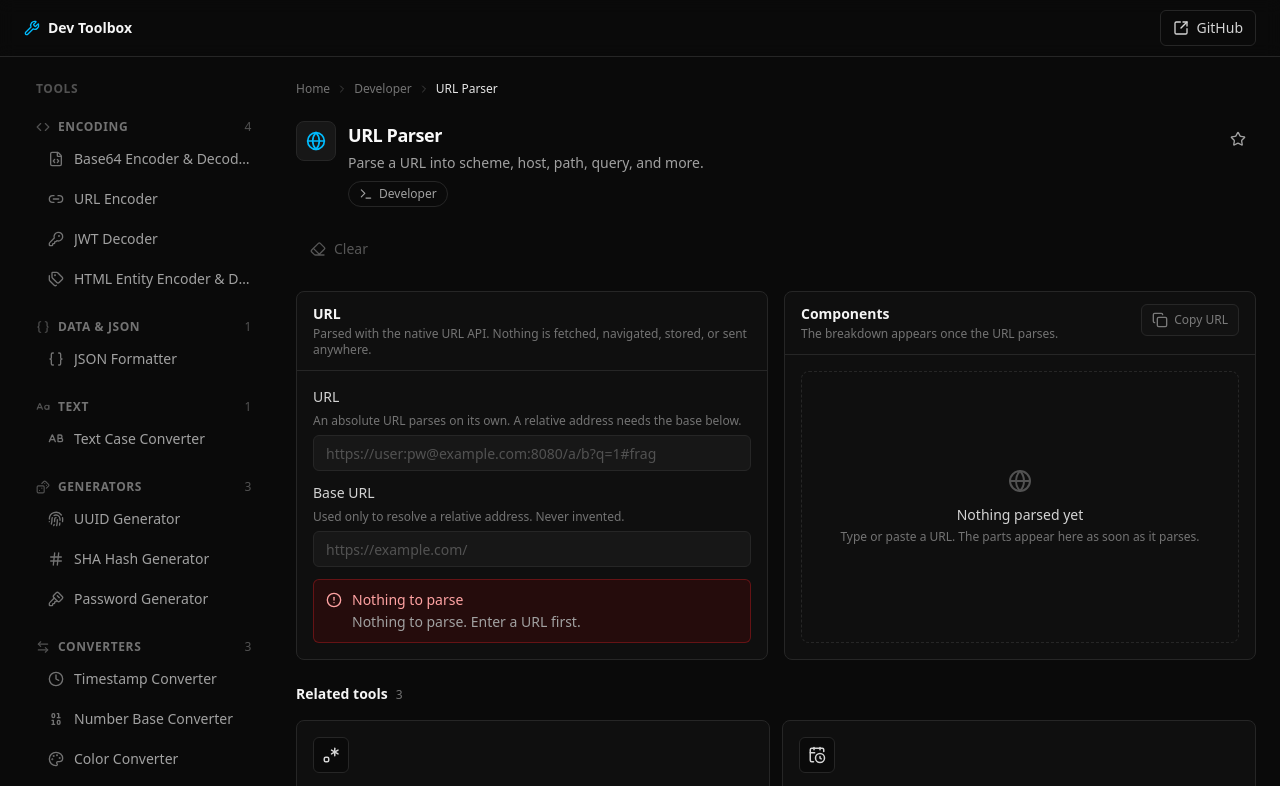
Scenario: URL Parser › breaks an absolute URL into components and masks the password
This screenshot has width=1280, height=786.
Expected: the heading "URL Parser" is shown, [348,123,442,147]
Type "https://user:secret@example.com:8080/a/b?q=1#frag" into the field labelled "URL". click: (532, 453)
box: [313,435,751,471]
(page scrolled)
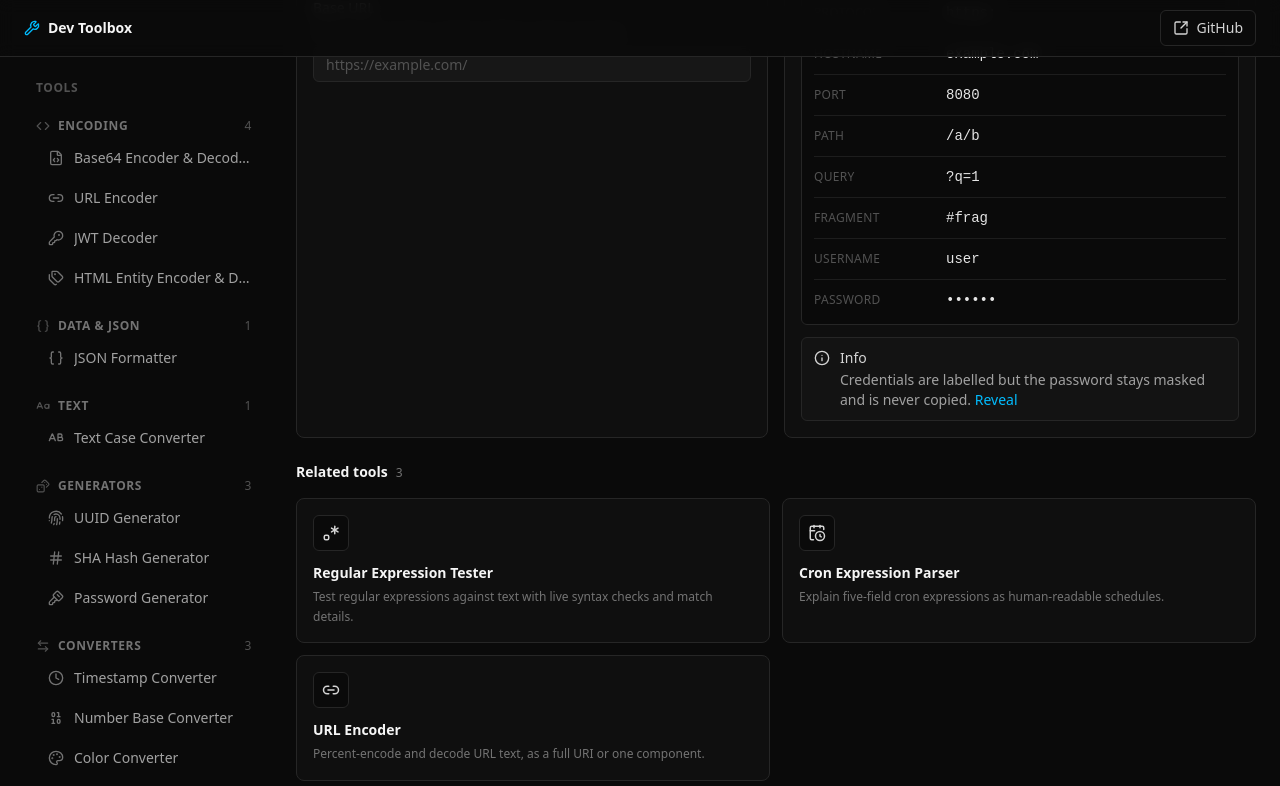
Now the text "example.com" is shown, box [946,46,1038,62]
Now the text "8080" is shown, box [946,87,980,103]
Now the text "/a/b" is shown, box [946,128,980,144]
Click the button "Reveal". click: click(996, 400)
box: [975,390,1018,410]
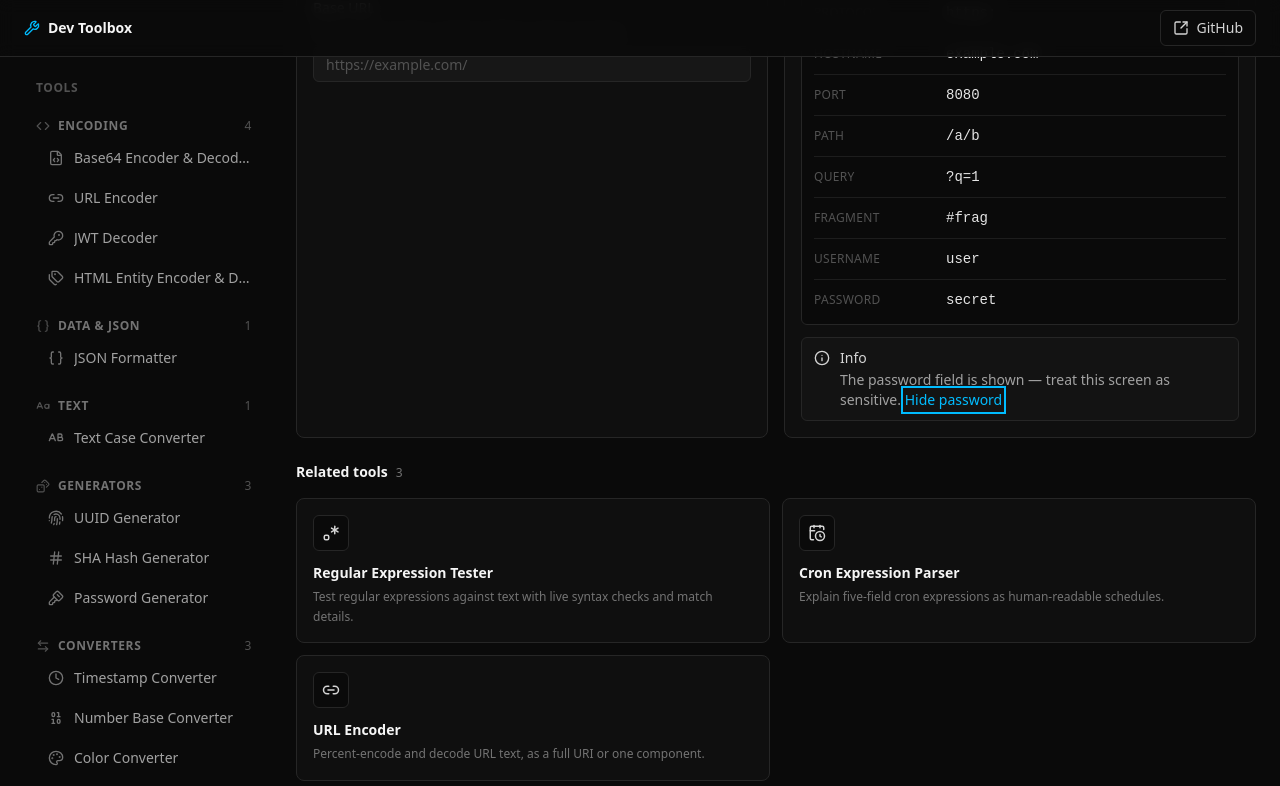
Now the text "secret" is shown, box [946,292,996,308]
Now the button "Hide password" is shown, box [905,390,1002,410]
